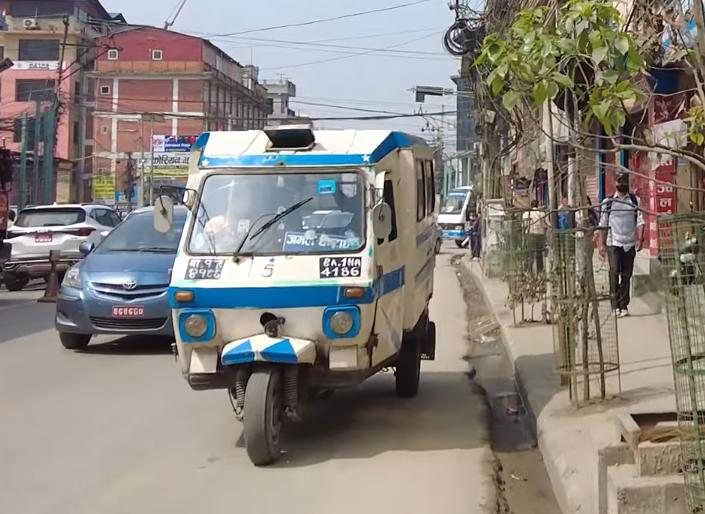car: (58, 198, 193, 352), (0, 201, 124, 292)
tempo: (158, 112, 464, 473)
